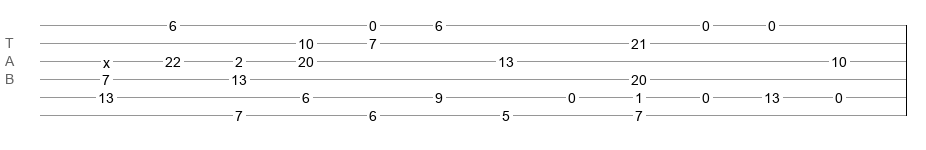0: (369, 18, 377, 28), (568, 90, 576, 100), (702, 18, 710, 28), (702, 90, 710, 100), (768, 18, 776, 28), (835, 90, 843, 100)
1: (635, 90, 643, 100)
10: (298, 36, 314, 46), (831, 54, 847, 64)
13: (98, 90, 114, 100), (231, 72, 247, 82), (498, 54, 514, 64), (764, 90, 780, 100)
2: (235, 54, 243, 64)
20: (298, 54, 314, 64), (631, 72, 647, 82)
21: (631, 36, 647, 46)
22: (165, 54, 181, 64)
5: (502, 108, 510, 118)
6: (169, 18, 177, 28), (302, 90, 310, 100), (369, 108, 377, 118), (435, 18, 443, 28)
7: (102, 72, 110, 82), (235, 108, 243, 118), (369, 36, 377, 46), (635, 108, 643, 118)
9: (435, 90, 443, 100)
x: (103, 55, 110, 63)
